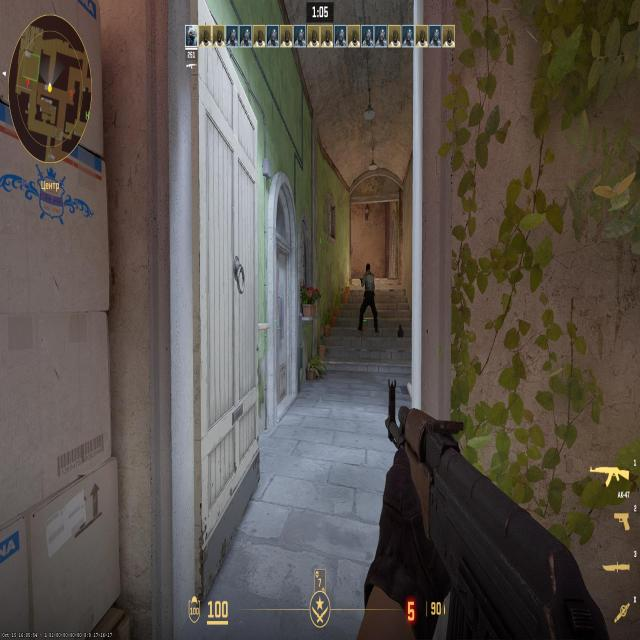T: (363, 264, 375, 323)
T_heat: (366, 270, 370, 283)
